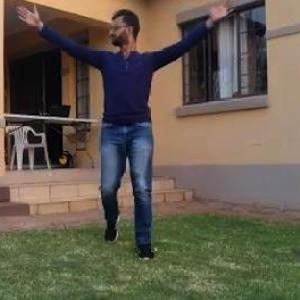takeoff: (20, 2, 228, 231)
